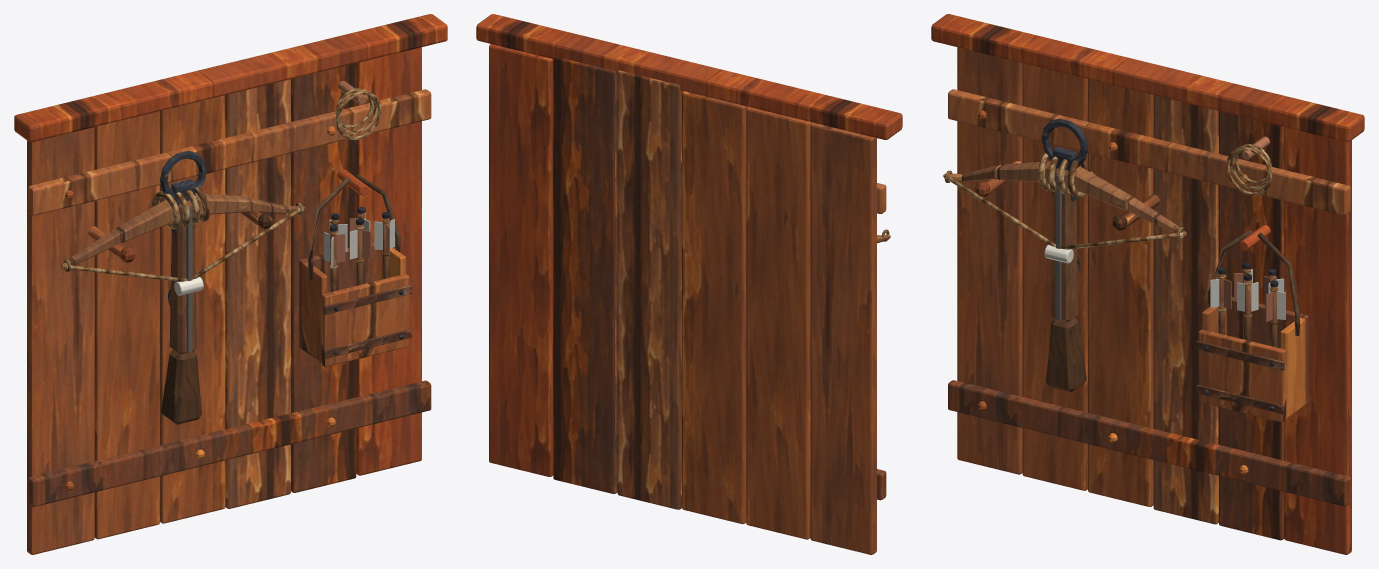
Rendered from ro_quiver_rack.glb.
3 renders of one model, left to right at view 1: azimuth 30°, elevation 25°; view 2: azimuth 150°, elevation 25°; view 3: azimuth 330°, elevation 25°, orthographic.
Parts seen in each view (by area): view 1: model; view 2: model; view 3: model.
Part boxes in pixels (bbox=[...]): model: bbox=[14, 14, 447, 554]; model: bbox=[476, 14, 902, 554]; model: bbox=[931, 14, 1364, 554].
Size of the model in its own units: 1.28 by 1.29 by 0.235.
31 materials, 27 textured.
